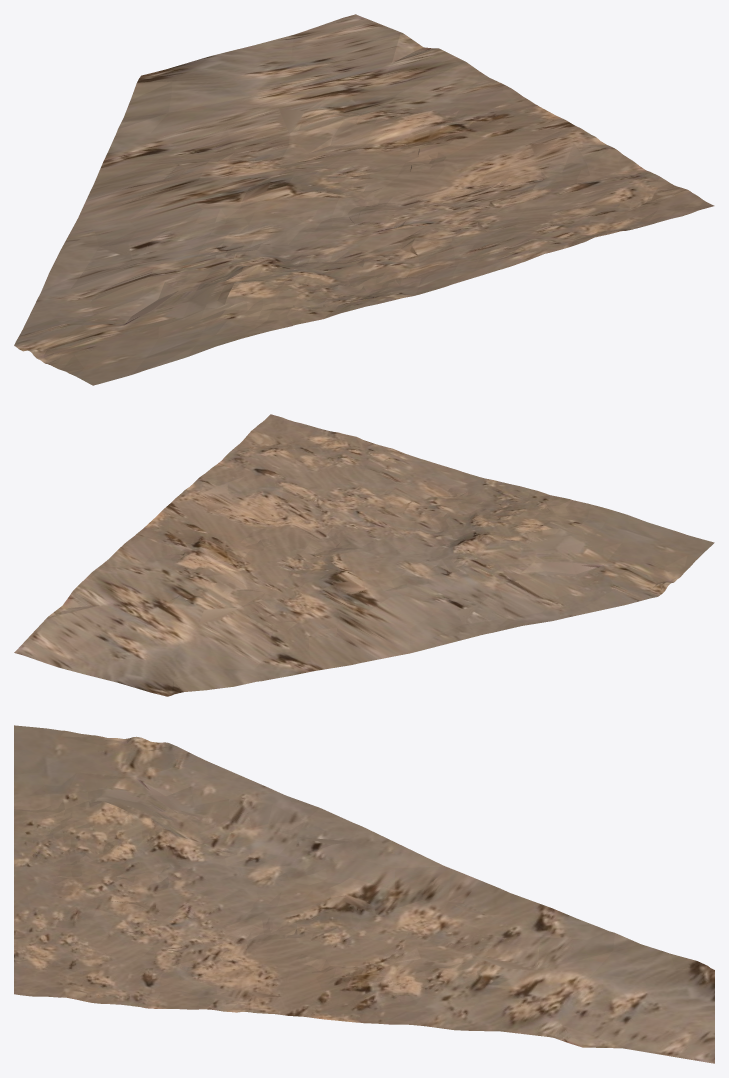
3 views of the same model, one above another, from view 1: azimuth 30°, elevation 25°; view 2: azimuth 150°, elevation 25°; view 3: azimuth 270°, elevation 25° (orthographic). The views are drawn at different scales.
Size of the model in its own units: 8.36 by 1.03 by 8.36.
Materials: 2 (2 with a texture image).
